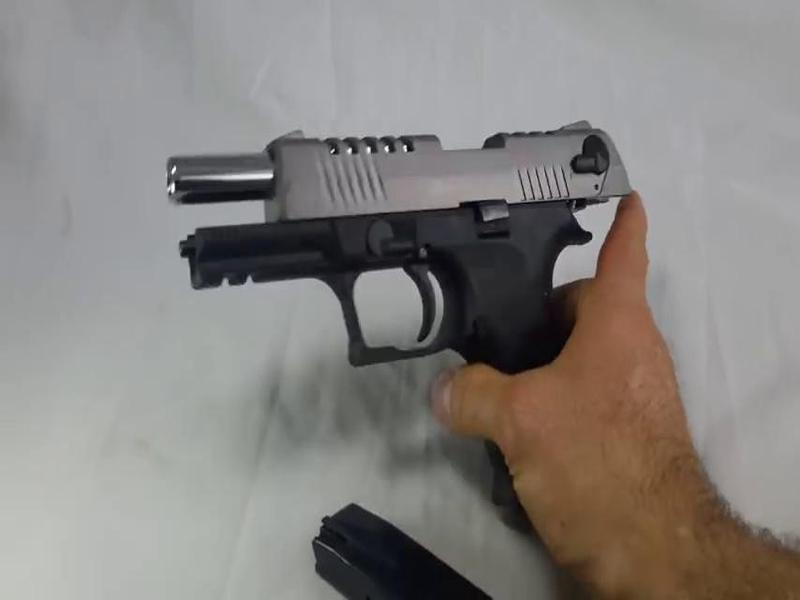Pistola: (152, 116, 639, 522)
